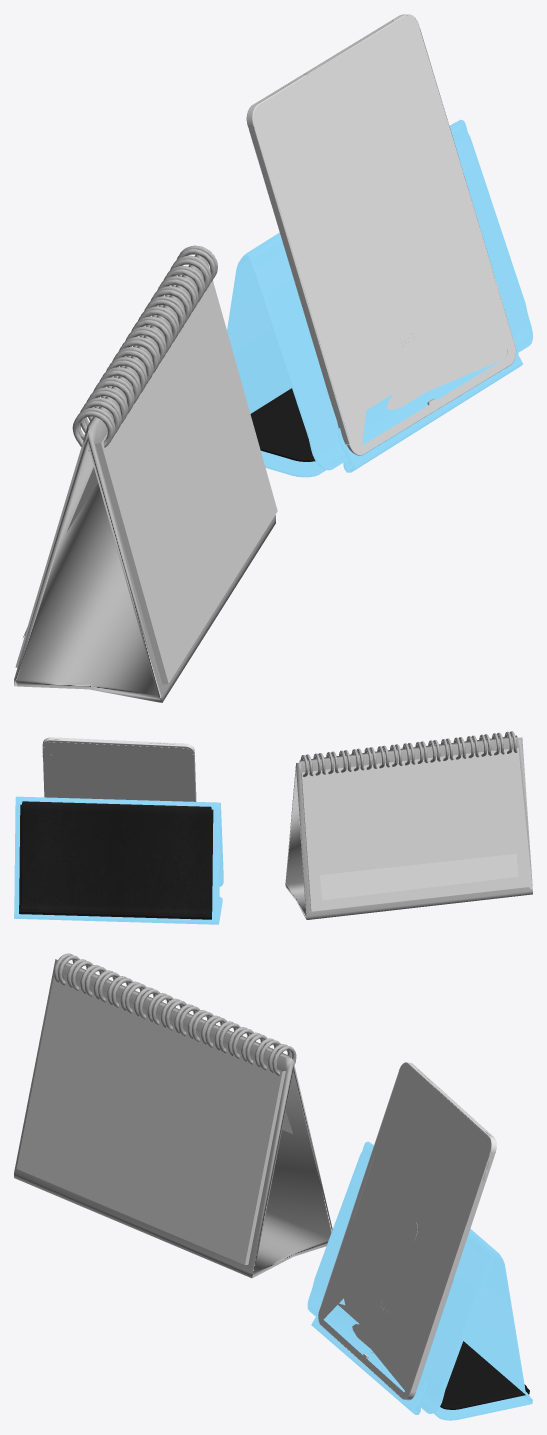
Rendered from CalanderAnimation.glb.
3 renders of one model, top to bottom at view 1: azimuth 30°, elevation 25°; view 2: azimuth 150°, elevation 25°; view 3: azimuth 270°, elevation 25°, orthographic. The views are drawn at different scales.
Visible parts, largest first — view 1: Color:179, Argollas_0_3, cover_front.001, cover_front; view 2: Argollas_0_3, cover_front, Color:179, Plane, cover_front.001; view 3: Argollas_0_3, Color:179, cover_front.001, cover_front, Plane.
Part boxes in pixels (left/top/right/bottom): Color:179: left=246, top=14, right=516, bottom=455; Argollas_0_3: left=14, top=245, right=277, bottom=702; cover_front.001: left=227, top=119, right=532, bottom=477; cover_front: left=250, top=388, right=315, bottom=461; Argollas_0_3: left=285, top=731, right=532, bottom=919; cover_front: left=19, top=801, right=213, bottom=919; Color:179: left=42, top=737, right=196, bottom=801; Plane: left=320, top=854, right=518, bottom=900; cover_front.001: left=14, top=796, right=223, bottom=924; Argollas_0_3: left=14, top=953, right=332, bottom=1278; Color:179: left=318, top=1062, right=496, bottom=1400; cover_front.001: left=307, top=1141, right=532, bottom=1420; cover_front: left=440, top=1341, right=529, bottom=1409; Plane: left=63, top=974, right=292, bottom=1133.
Size of the model in its own units: 4.48 by 1.92 by 3.56.
8 materials, 1 textured.
